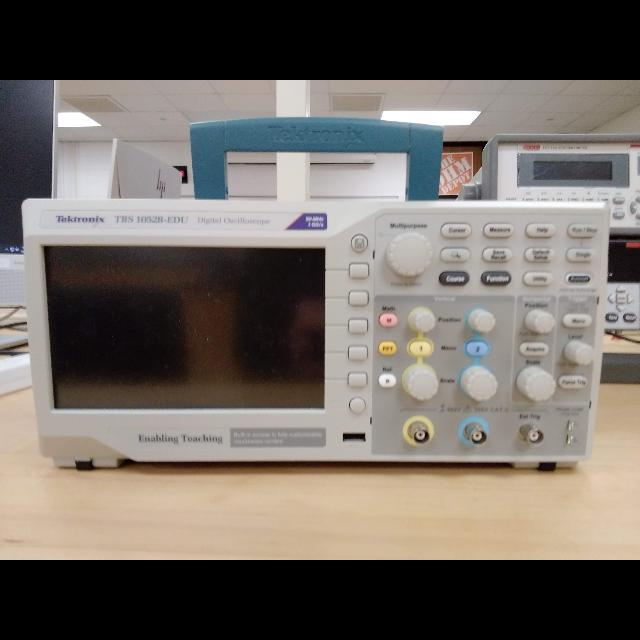Digital-Oscilloscope: (34, 200, 605, 460)
